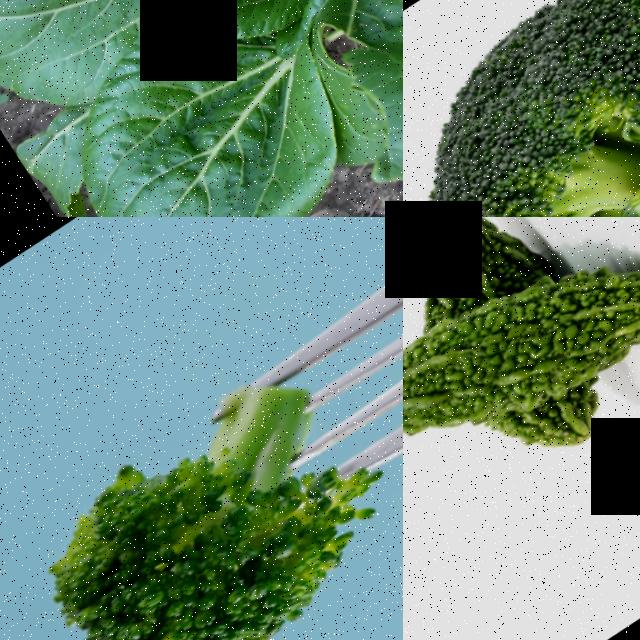bitter gourd: (403, 217, 640, 547), (403, 217, 537, 349)
broccoli: (0, 323, 392, 640), (403, 0, 640, 217)
